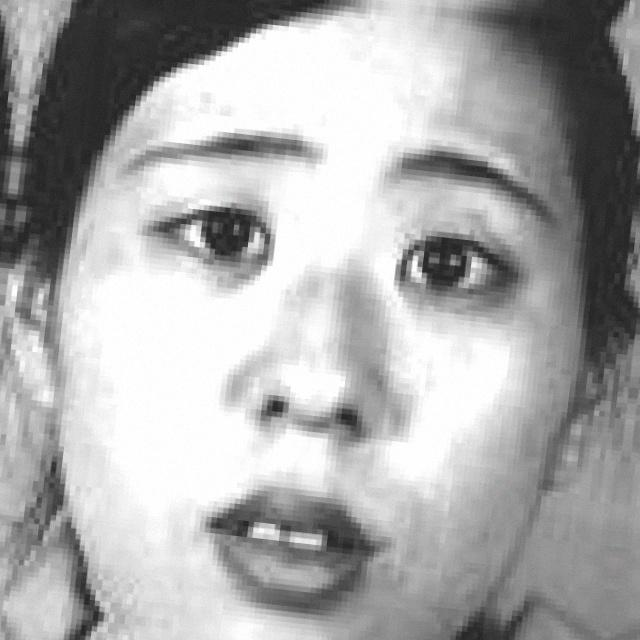fear: (88, 36, 508, 629)
